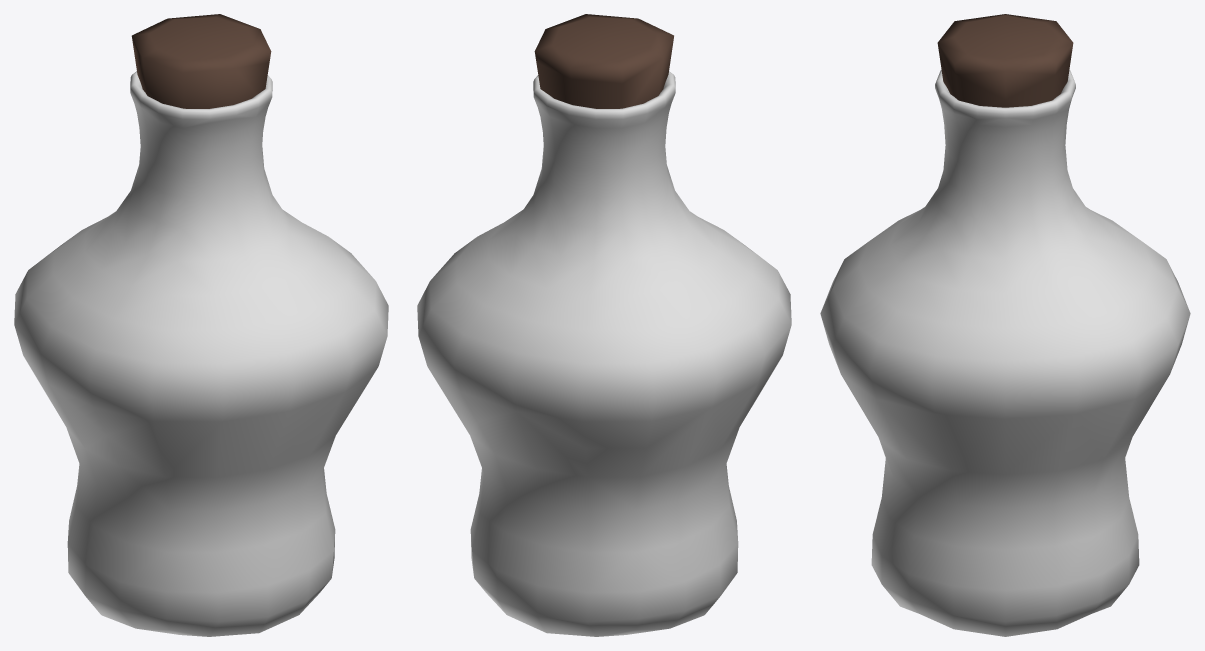
Rendered from quaternius-rpg-items-potion-3-filled.glb.
3 renders of one model, left to right at view 1: azimuth 30°, elevation 25°; view 2: azimuth 150°, elevation 25°; view 3: azimuth 270°, elevation 25°, orthographic.
Parts seen in each view (by area): view 1: Potion3_Filled; view 2: Potion3_Filled; view 3: Potion3_Filled.
Boxes of the visible parts, x1,y1,x2,y2 form: Potion3_Filled: (14,14,388,636); Potion3_Filled: (417,14,791,636); Potion3_Filled: (820,14,1190,636).
Bounding box in the file's own units: 0.7186 × 1.22 × 0.7186.
